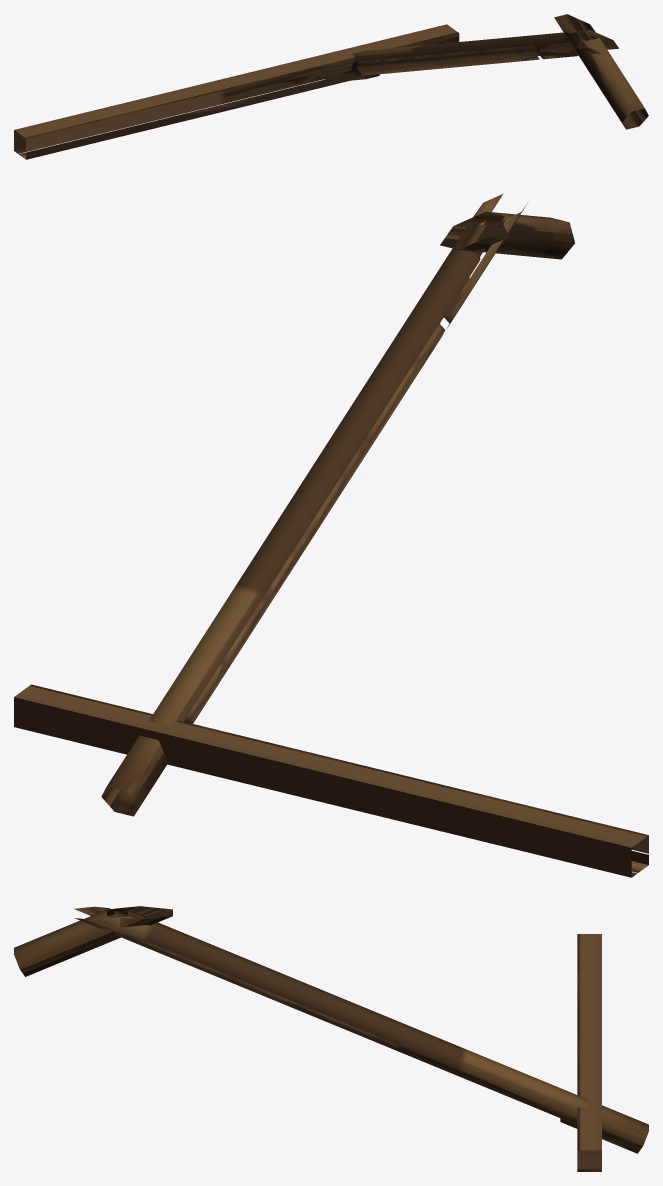
File: section-3.obj
The picture shows the model from 3 angles, top to bottom: view 1: azimuth 30°, elevation 25°; view 2: azimuth 150°, elevation 25°; view 3: azimuth 270°, elevation 25°; orthographic projection. The views are drawn at different scales.
Size of the model in its own units: 1.22 by 0.6253 by 1.52.
